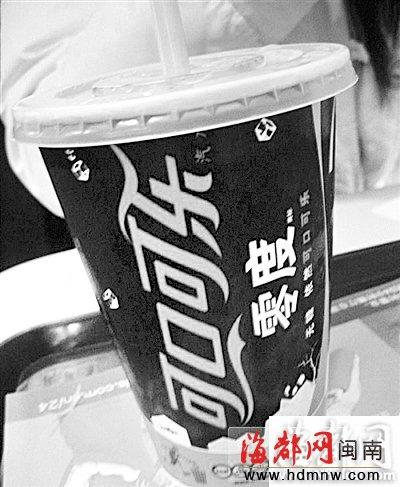coke_zero: (6, 25, 375, 432)
